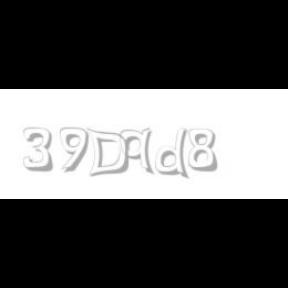3: (23, 128, 54, 172)
8: (189, 128, 218, 172)
9: (60, 128, 88, 172)
D: (86, 128, 128, 178)
d: (156, 128, 192, 180)
q: (119, 128, 155, 176)
